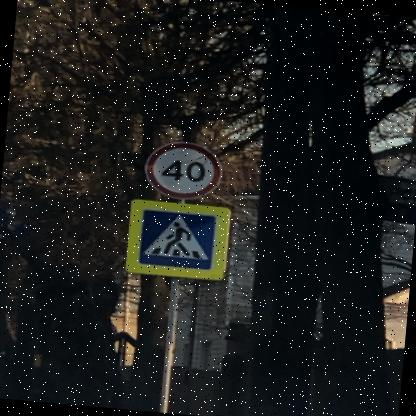crosswalk: (134, 206, 216, 270)
speedlimit: (140, 138, 219, 202)
